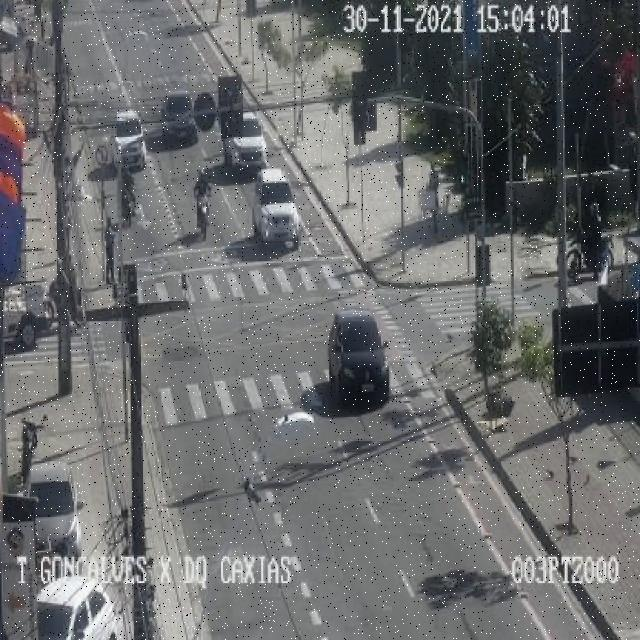car: (25, 462, 81, 573), (328, 307, 390, 398), (36, 574, 116, 640), (252, 167, 298, 241), (223, 110, 266, 168), (110, 110, 144, 166), (162, 90, 196, 138)
motorbike: (567, 202, 613, 278), (44, 252, 86, 328), (20, 417, 37, 483), (196, 168, 210, 240), (120, 164, 136, 227), (104, 217, 116, 285), (428, 159, 439, 232)
